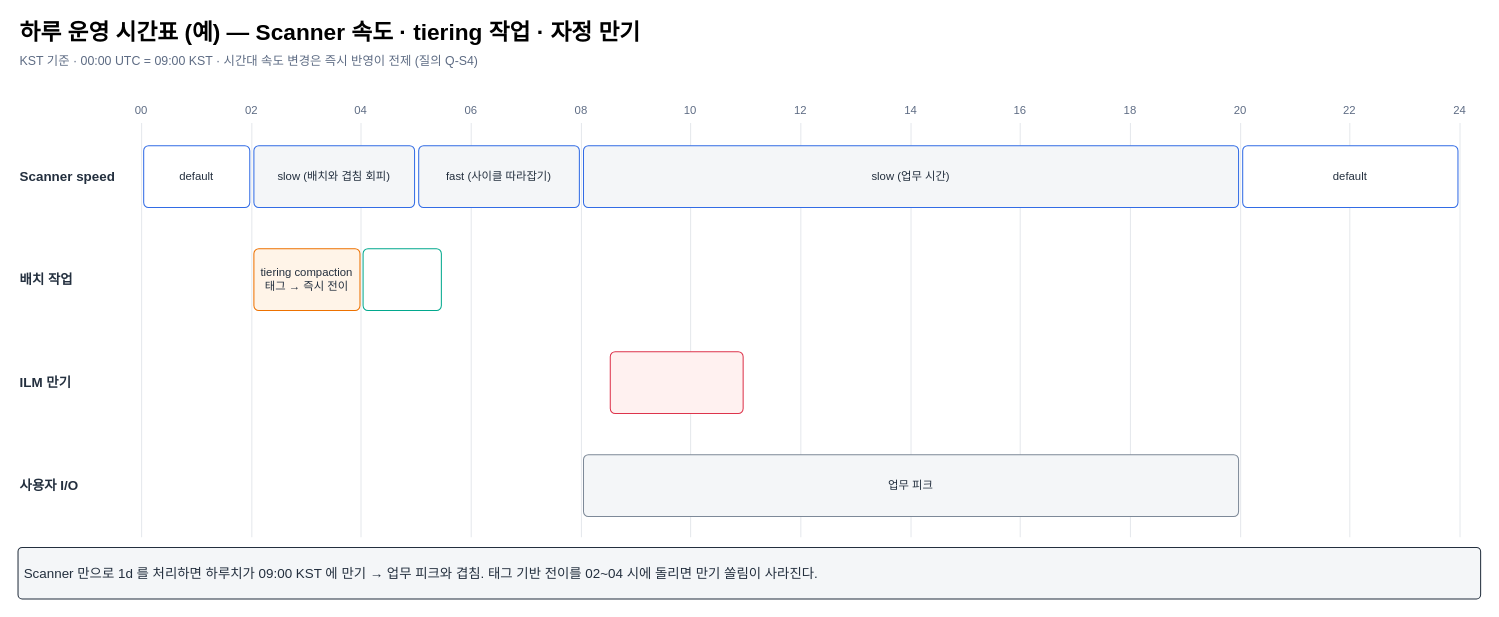
This 1499x617 diagram has some shape labels left out. The shapes that lost their labels are listed below. From the top down, each one's centre as x and y in pixels, then its label:
(x=401, y=279): 보존 작업 soft delete
(x=676, y=382): 00:00 UTC = 09:00 KST Scanner 만 쓰면 1d 만기 쏠림
